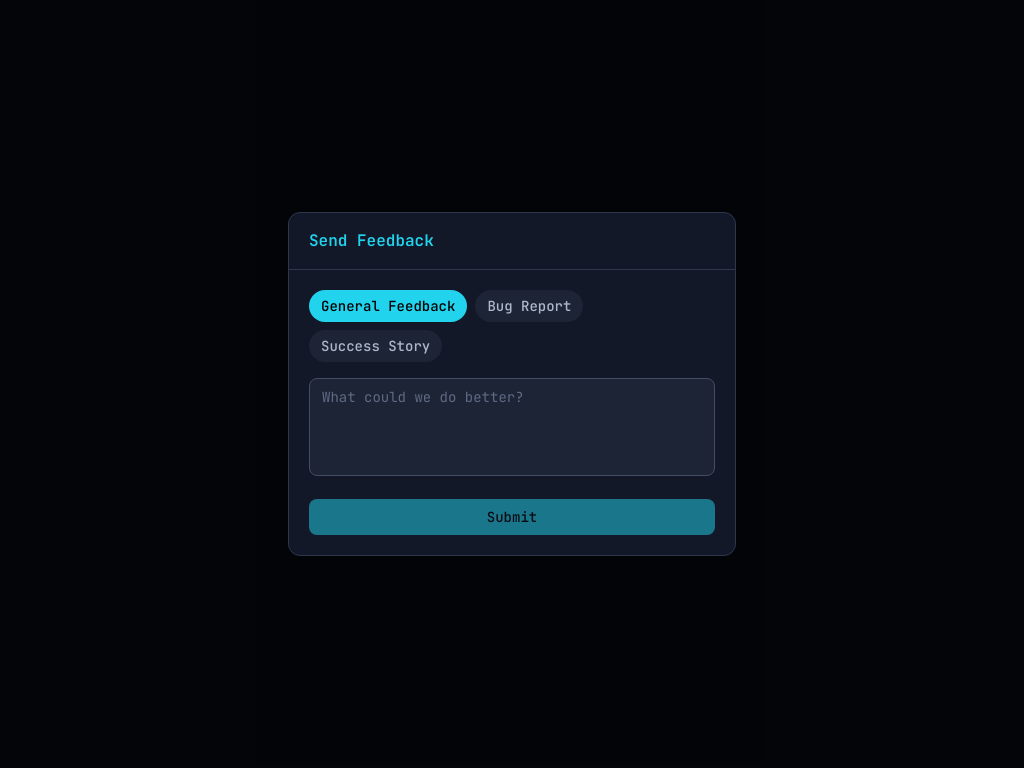
FeedbackModal › changes placeholder when category changes
Expected: the text box with placeholder "What could we do better?" is shown, [309,378,715,476]
What coordinates should you click on to do the following:
click the button "Bug Report"
I would click on:
 (529, 306)
Its box is [475,290,583,322].
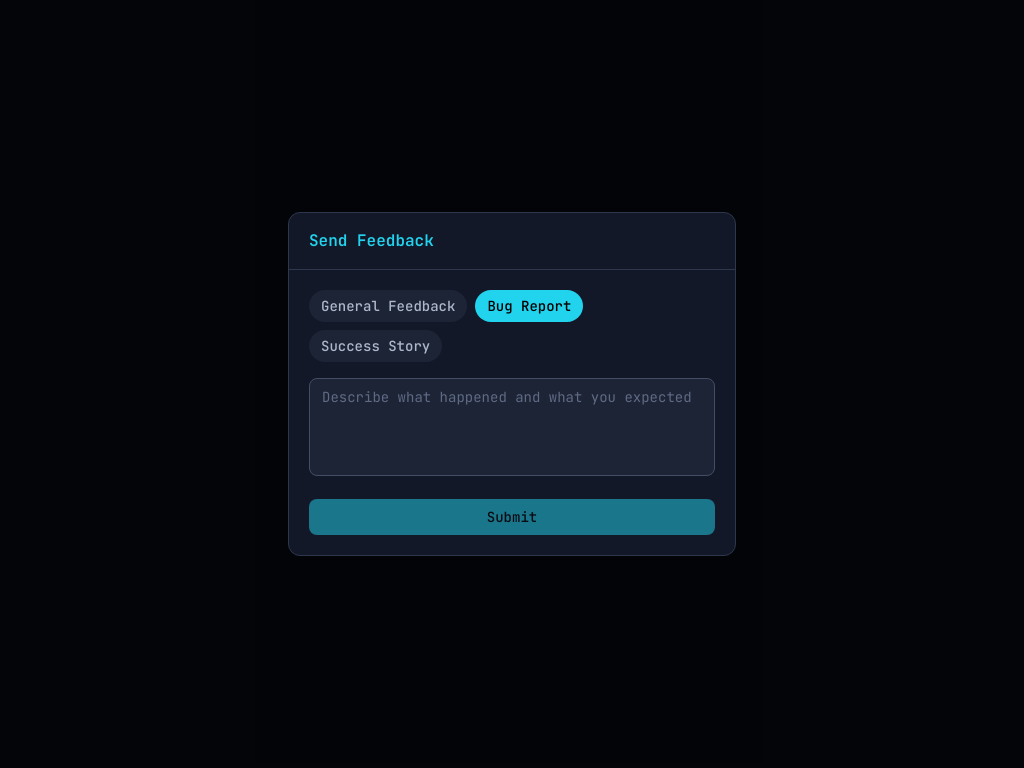
Expected: the text box with placeholder "Describe what happened and what you expected" is shown, [309,378,715,476]
What coordinates should you click on to do the following:
click the button "Success Story"
I would click on:
 (376, 346)
Its box is [309,330,442,362].
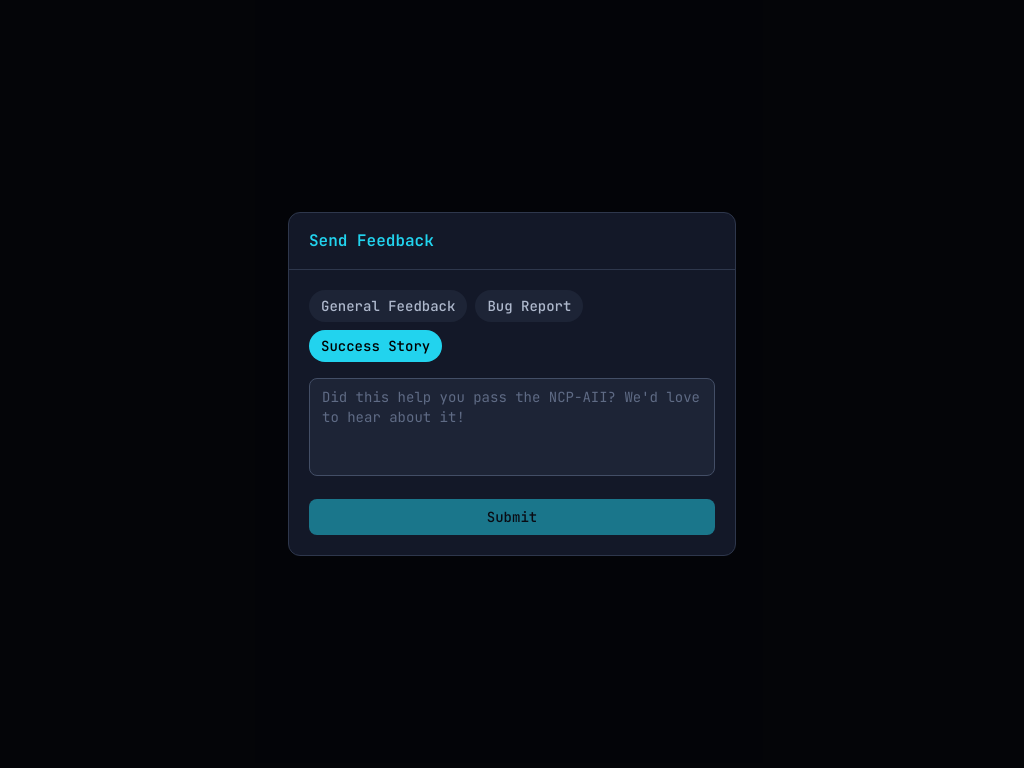
Expected: the text box with placeholder "Did this help you pass the NCP-AII? We'd love to hear about it!" is shown, [309,378,715,476]
